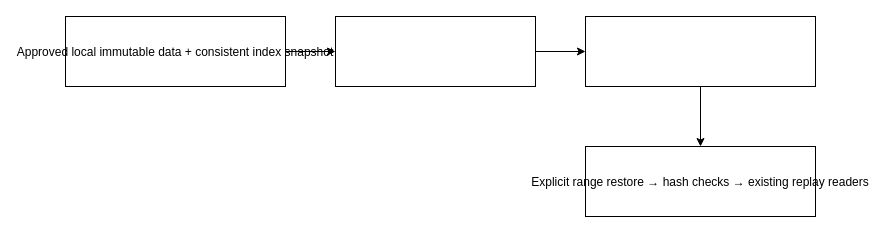
This 887x233 diagram has some shape labels left out. The shapes that lost their labels are listed below. From the top down, each one's centre as x and y in pixels, then its label:
At point (435, 51): "Private journal + bounded gzip-member packs".
At point (700, 51): "COS STANDARD: PUT → full GET SHA verification → manifest".
